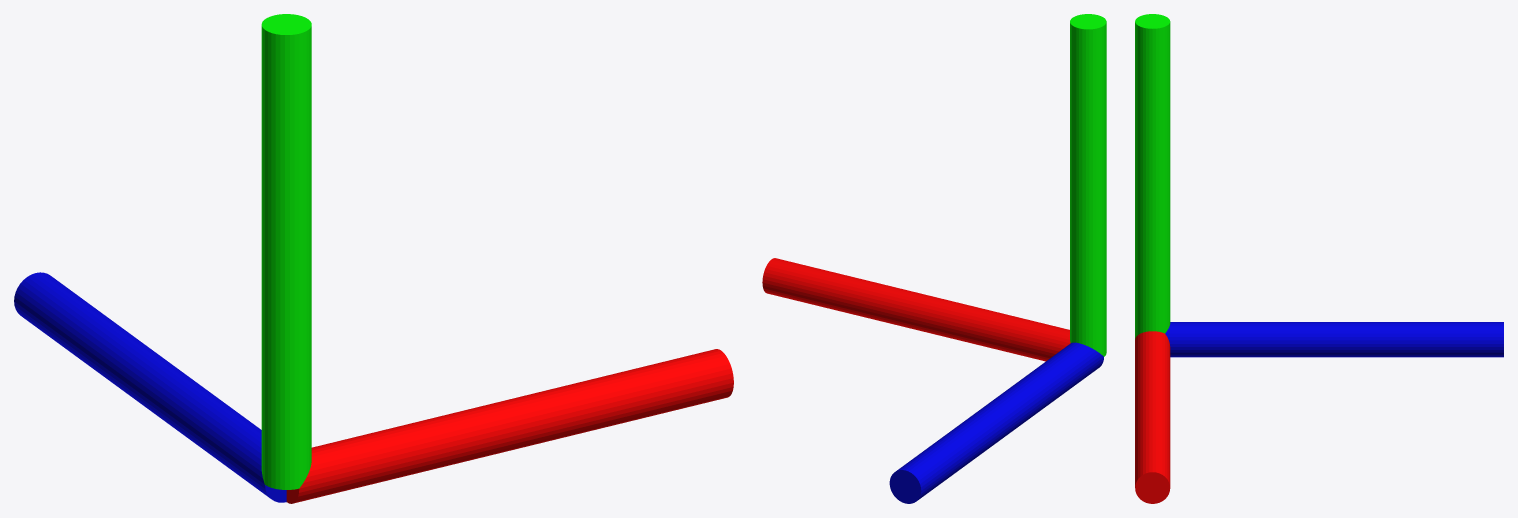
Rendered from CoordinateAxes.fbx.
The picture shows the model from 3 angles, left to right: view 1: azimuth 30°, elevation 25°; view 2: azimuth 150°, elevation 25°; view 3: azimuth 270°, elevation 25°; orthographic projection. The views are drawn at different scales.
Parts seen in each view (by area): view 1: Cylinder.002; view 2: Cylinder.002; view 3: Cylinder.002.
Boxes of the visible parts, box(x1,y1,x2,y2) form: Cylinder.002: box(14, 14, 733, 503); Cylinder.002: box(762, 14, 1106, 503); Cylinder.002: box(1135, 14, 1503, 503).
Size of the model in its own units: 0.105 by 0.105 by 0.105.
